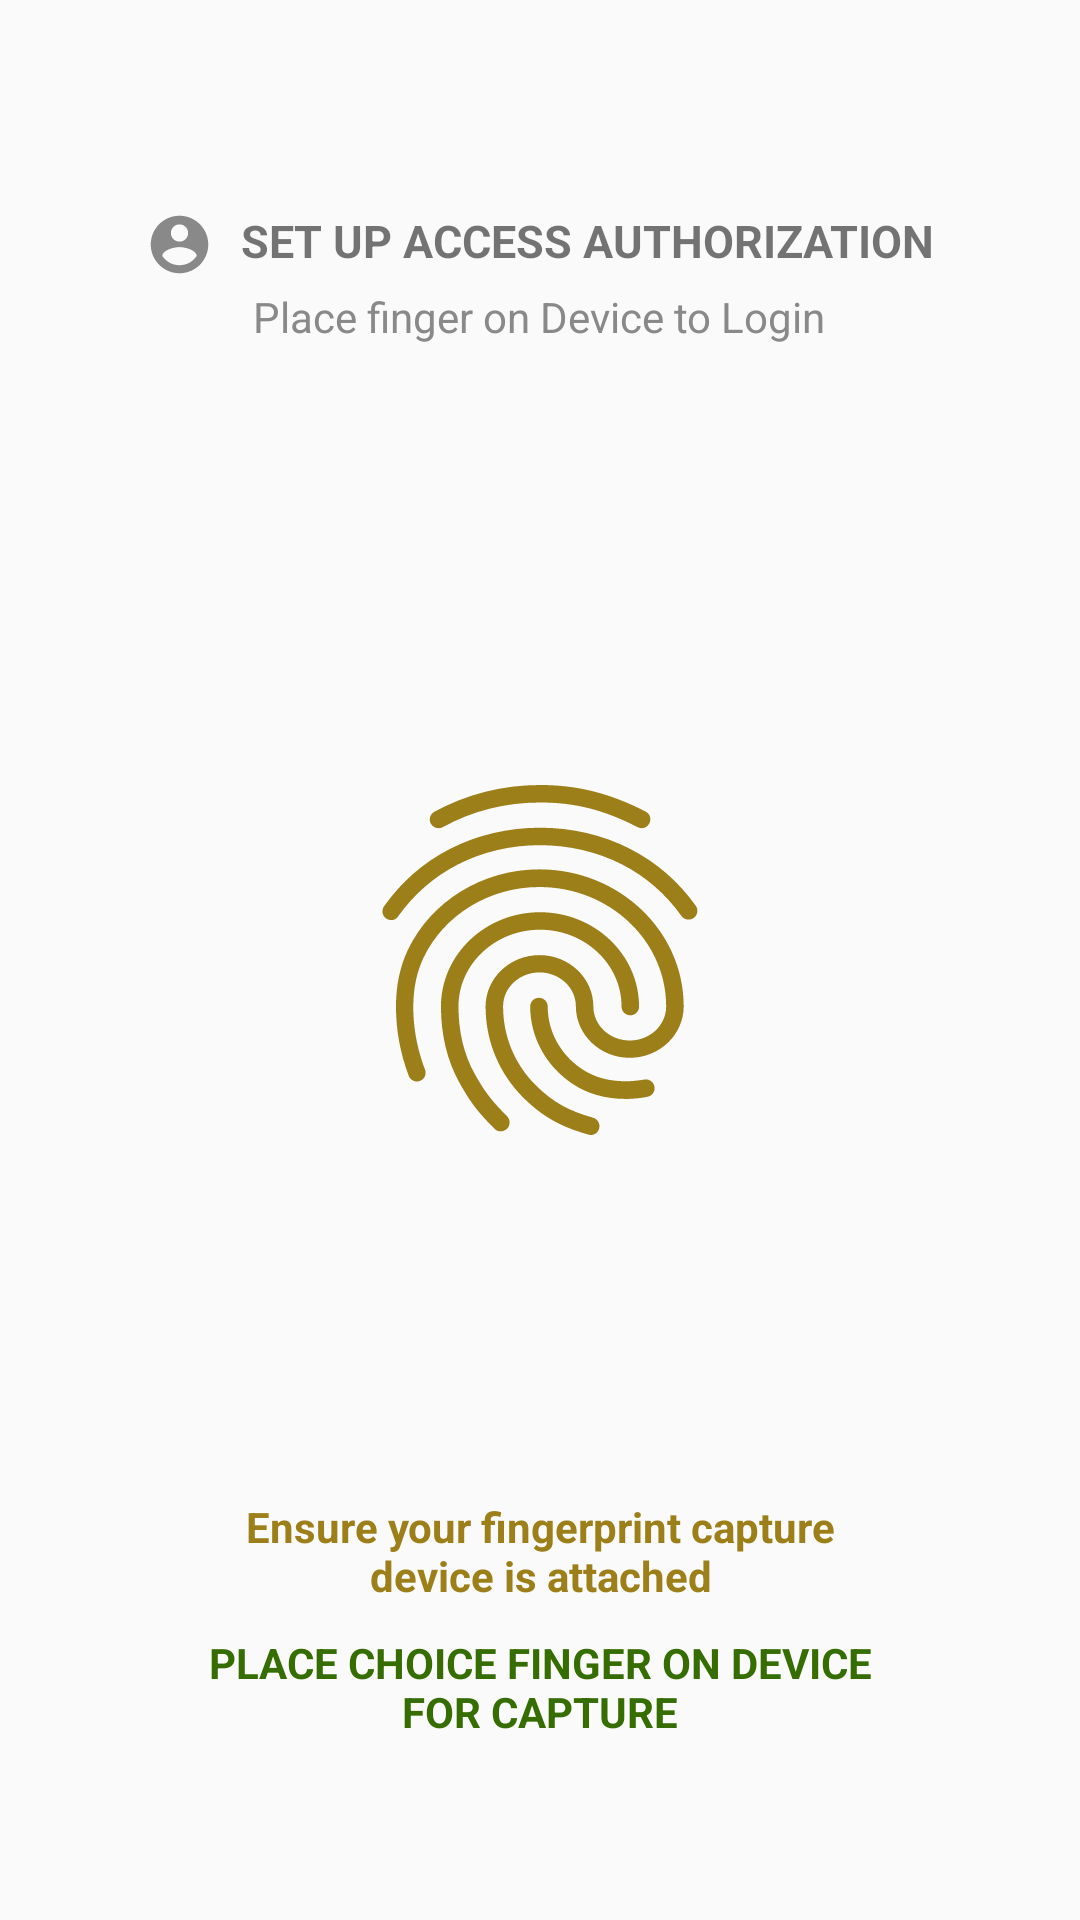

Screen size 1080px x 1920px. Icon name, then its center in pixels as (x,y):
account circle: (179,244)
fingerprint: (540,960)
